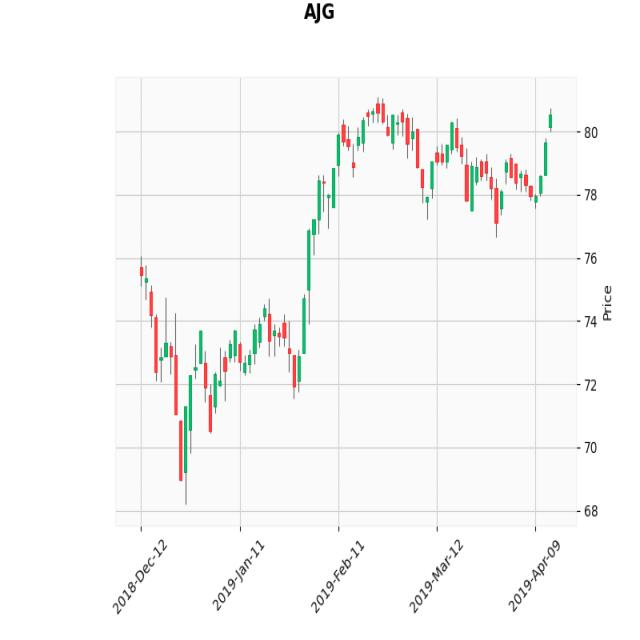Head-Shoulders: (325, 91, 431, 198)
Inverse-Head-Shoulders: (147, 282, 241, 492)
